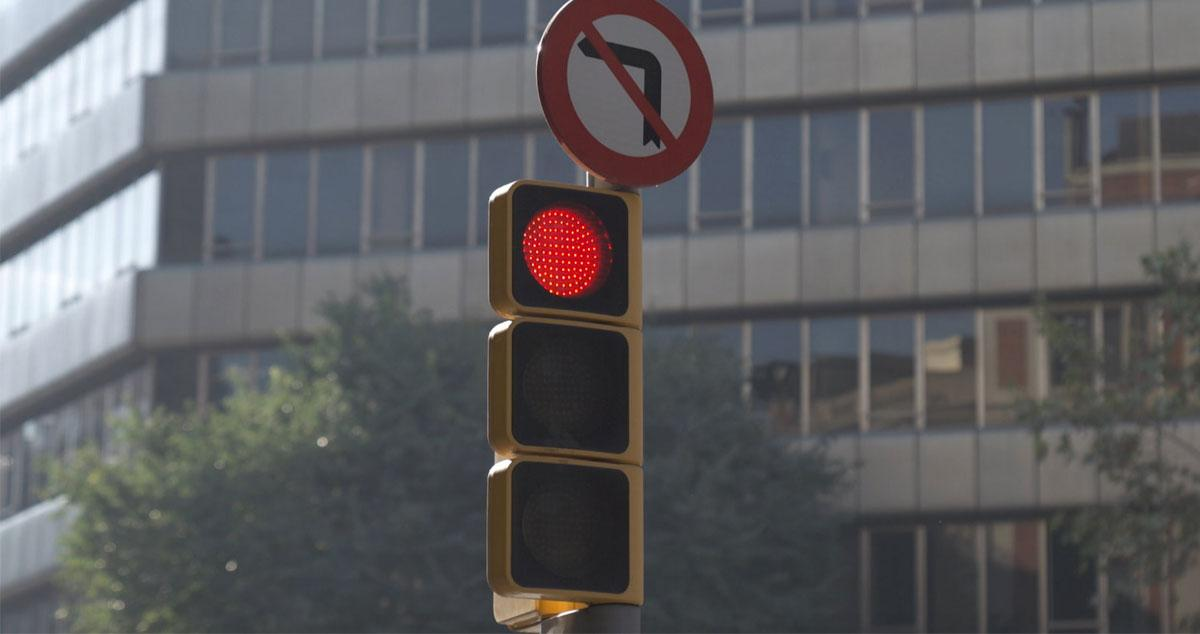Cartel: (530, 1, 726, 185)
Semaforo: (489, 183, 650, 610)
